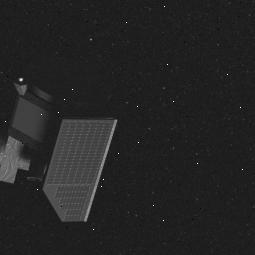cheops: (0, 59, 120, 229)
